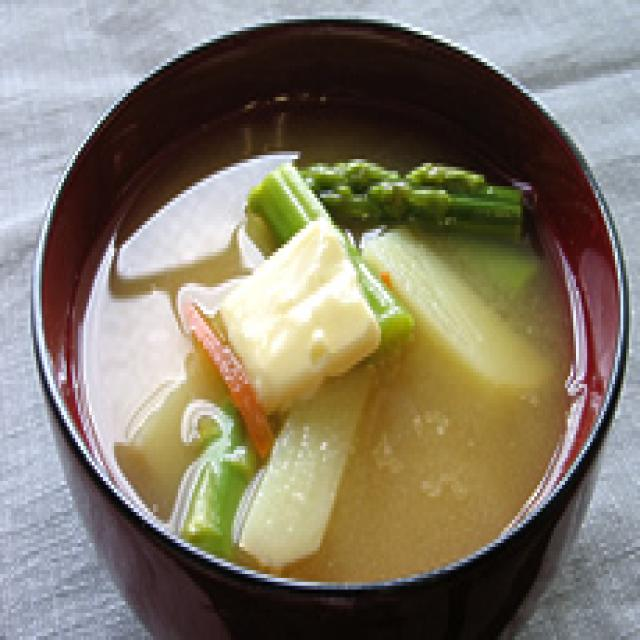汤锅炖物: (16, 4, 640, 640)
